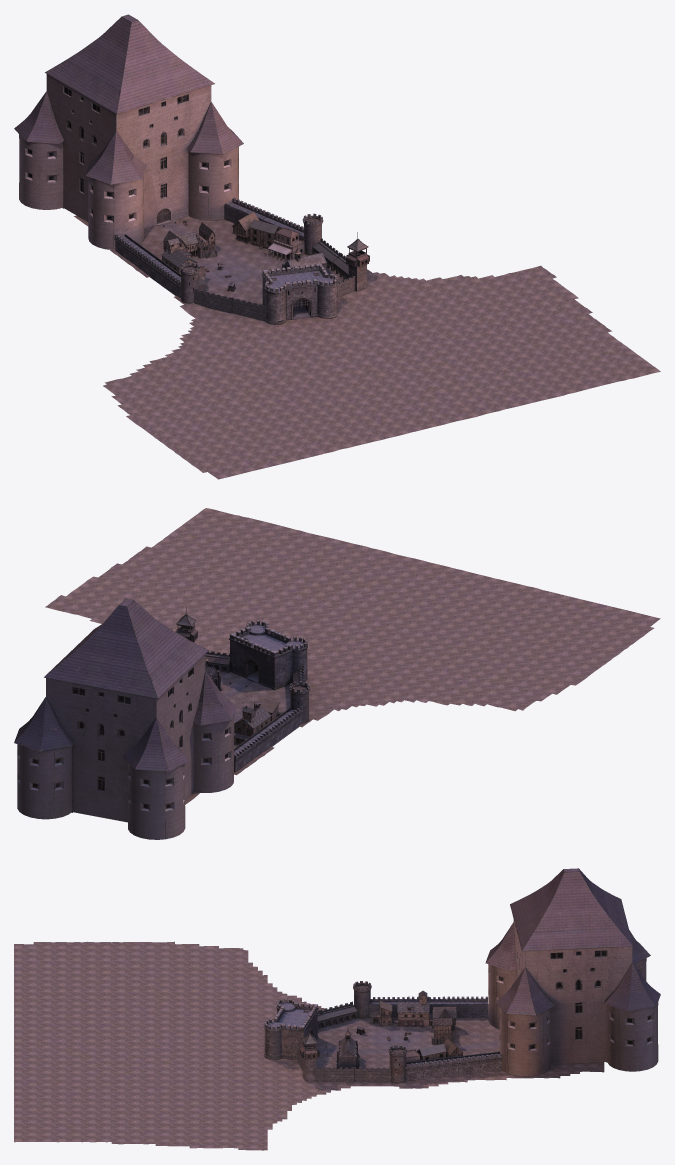
The model's file is Castle4.glb.
3 renders of one model, top to bottom at view 1: azimuth 30°, elevation 25°; view 2: azimuth 150°, elevation 25°; view 3: azimuth 270°, elevation 25°, orthographic. The views are drawn at different scales.
Visible parts, largest first — view 1: Plane; view 2: Plane; view 3: Plane.
Part boxes in pixels (x1,y1,x2,y2): Plane: (14,14,660,479); Plane: (14,508,660,839); Plane: (14,868,660,1150).
Size of the model in its own units: 234 by 89.57 by 307.
4 materials, 4 textured.
